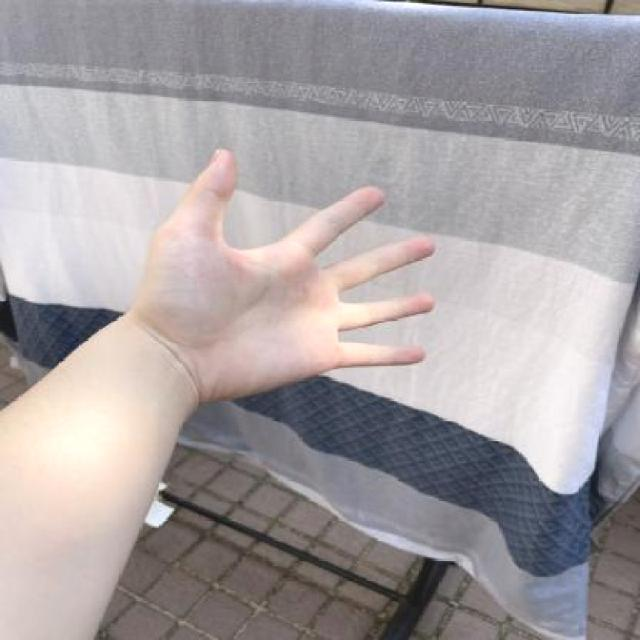no_glove: (100, 146, 454, 420)
